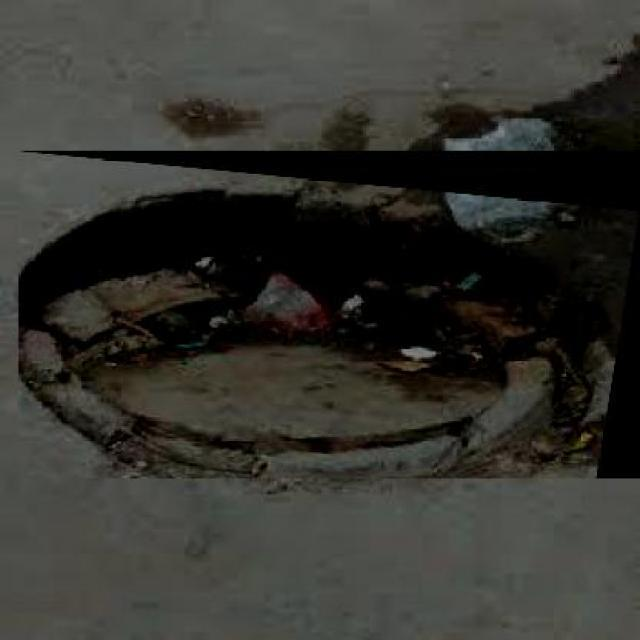Open Manhole: (18, 150, 640, 478)
